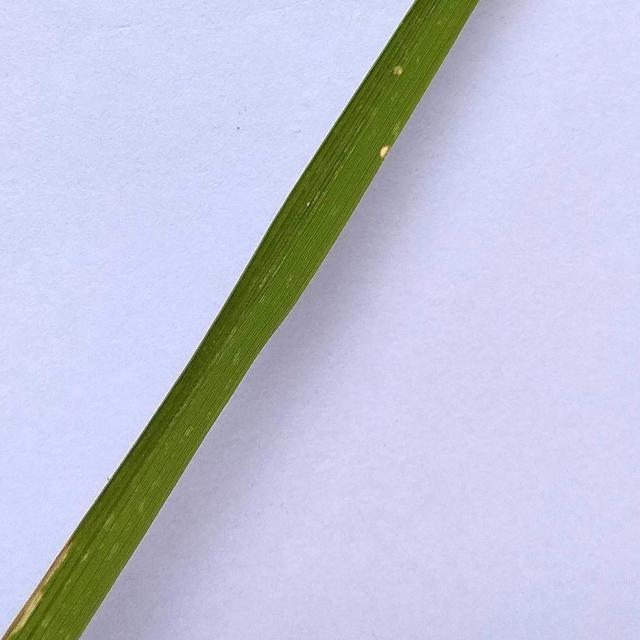Blast: (392, 62, 410, 78), (378, 146, 392, 156)
